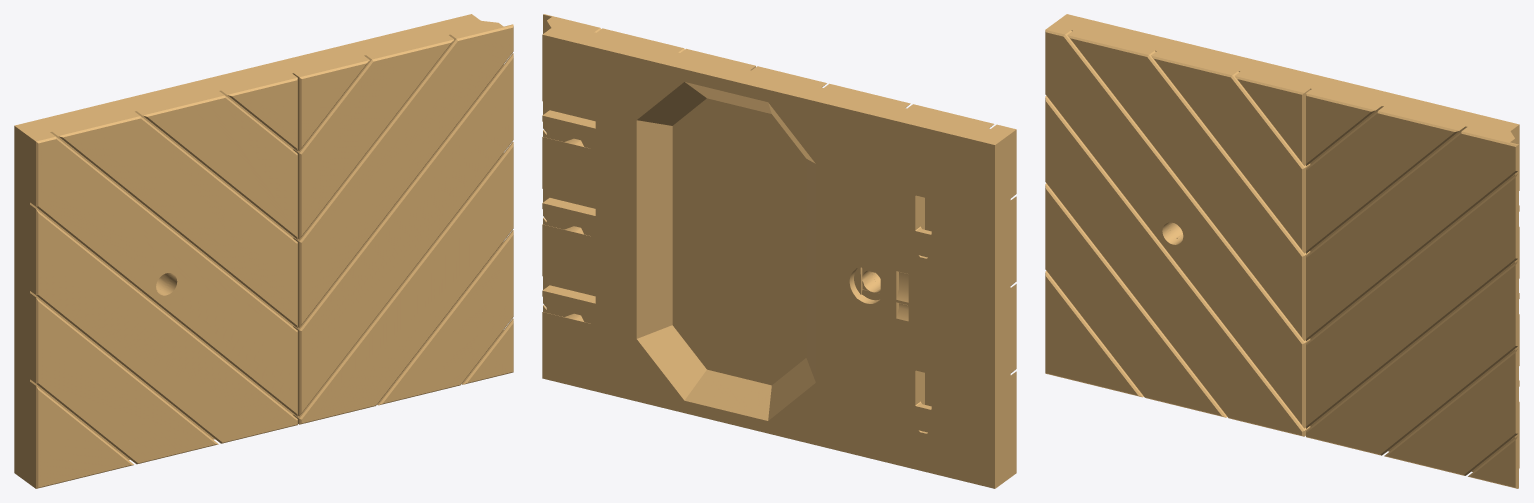
The model's file is Door_Chevron_1W-1H_RH.lib.glb.
3 views of the same model, side by side, from view 1: azimuth 30°, elevation 25°; view 2: azimuth 150°, elevation 25°; view 3: azimuth 330°, elevation 25° (orthographic).
Visible parts, largest first — view 1: Door_Chevron_1W-1H_RH; view 2: Door_Chevron_1W-1H_RH; view 3: Door_Chevron_1W-1H_RH.
Boxes of the visible parts, x1,y1,x2,y2 form: Door_Chevron_1W-1H_RH: [14, 14, 513, 488]; Door_Chevron_1W-1H_RH: [542, 14, 1016, 488]; Door_Chevron_1W-1H_RH: [1045, 14, 1519, 488].
Size of the model in its own units: 79.15 by 55 by 6.5.
